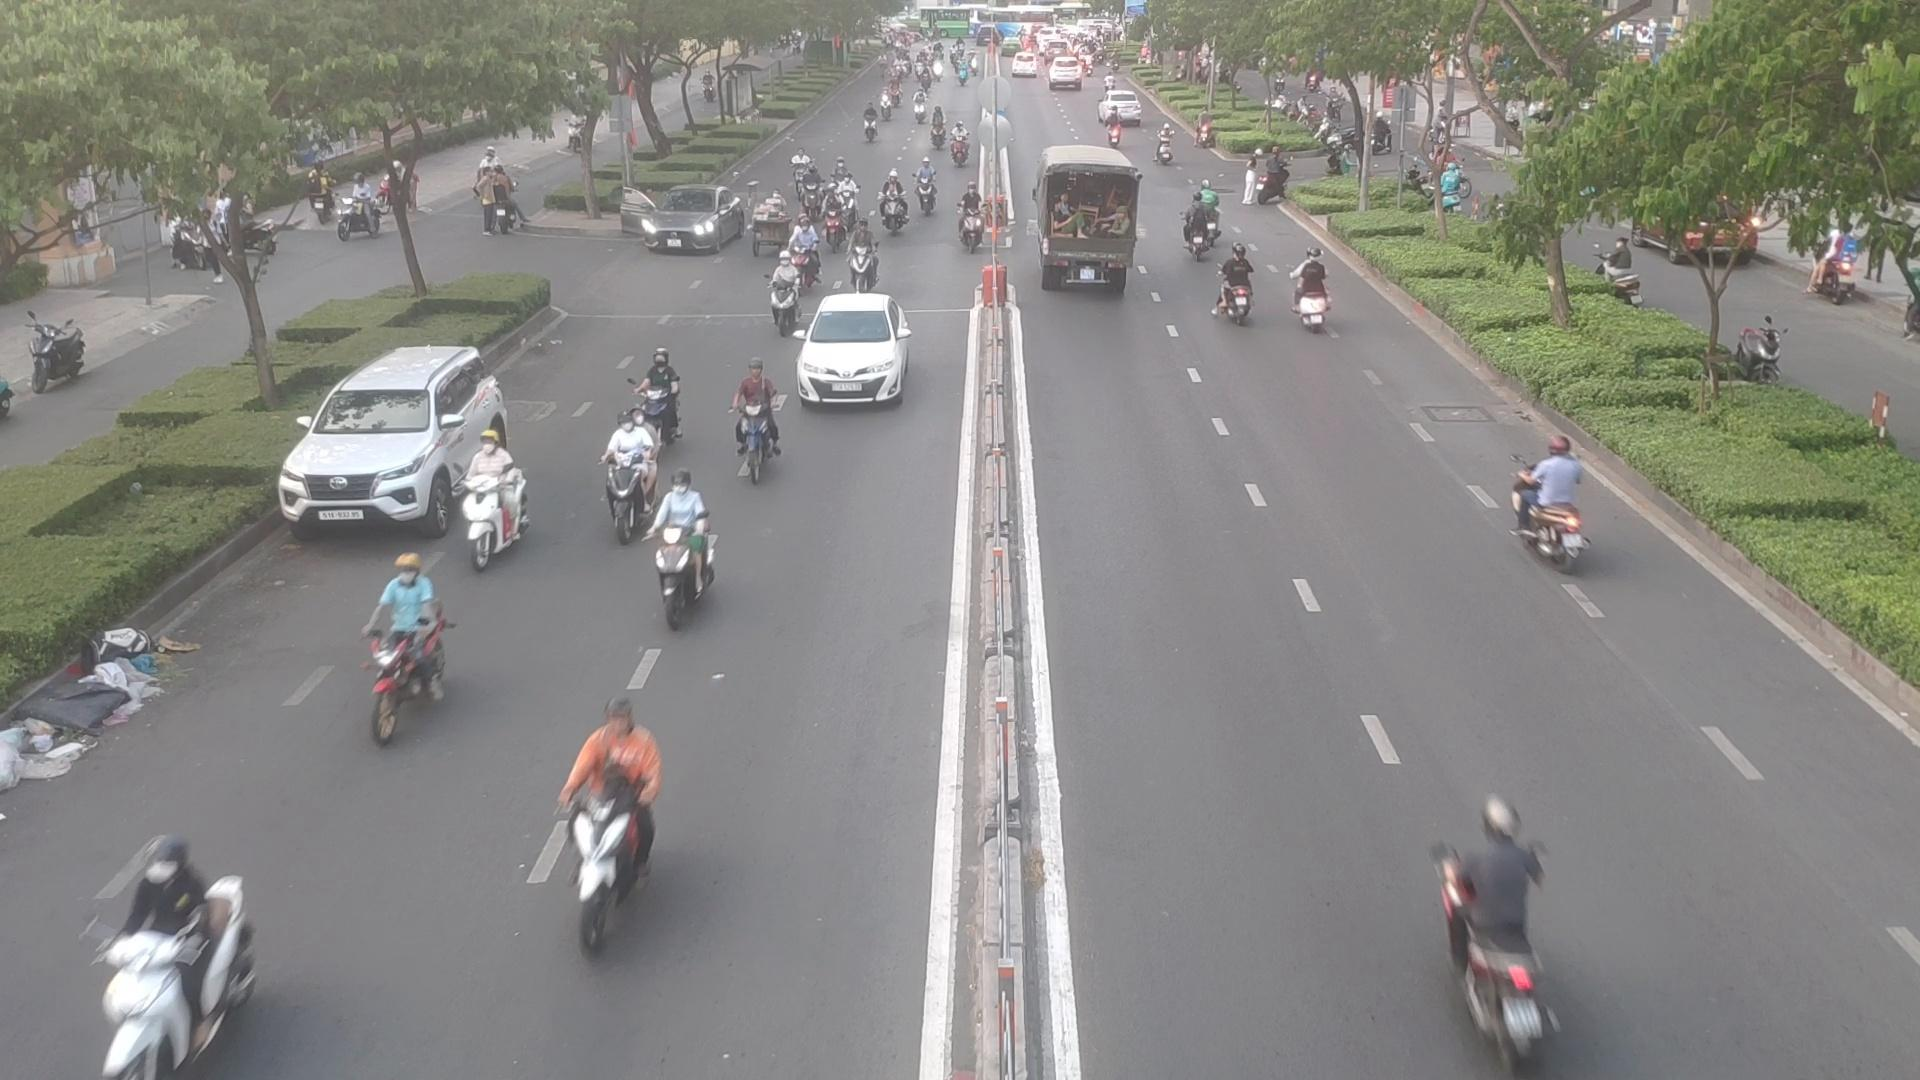car: (285, 343, 520, 533), (1034, 144, 1142, 295), (794, 298, 914, 407), (618, 190, 746, 258)
motorbike: (84, 833, 262, 1077), (1433, 803, 1581, 1073), (538, 702, 676, 967), (351, 567, 454, 738), (641, 479, 727, 618), (1510, 440, 1600, 564), (456, 439, 529, 564), (720, 363, 787, 471), (600, 421, 659, 512), (629, 348, 688, 435), (1287, 256, 1333, 334), (1217, 247, 1263, 324), (843, 216, 886, 293), (1175, 194, 1221, 262), (955, 189, 994, 255), (762, 261, 800, 328), (874, 179, 906, 233), (822, 203, 851, 251), (916, 161, 944, 210), (833, 175, 862, 220)
